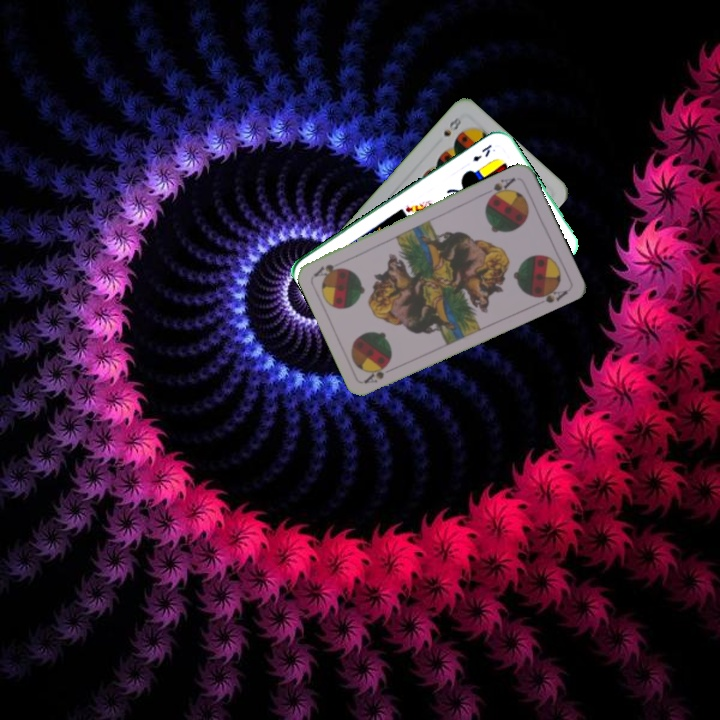EK: (469, 140, 494, 164)
S8: (439, 113, 465, 139)
SA: (360, 360, 399, 386), (484, 173, 518, 202)
